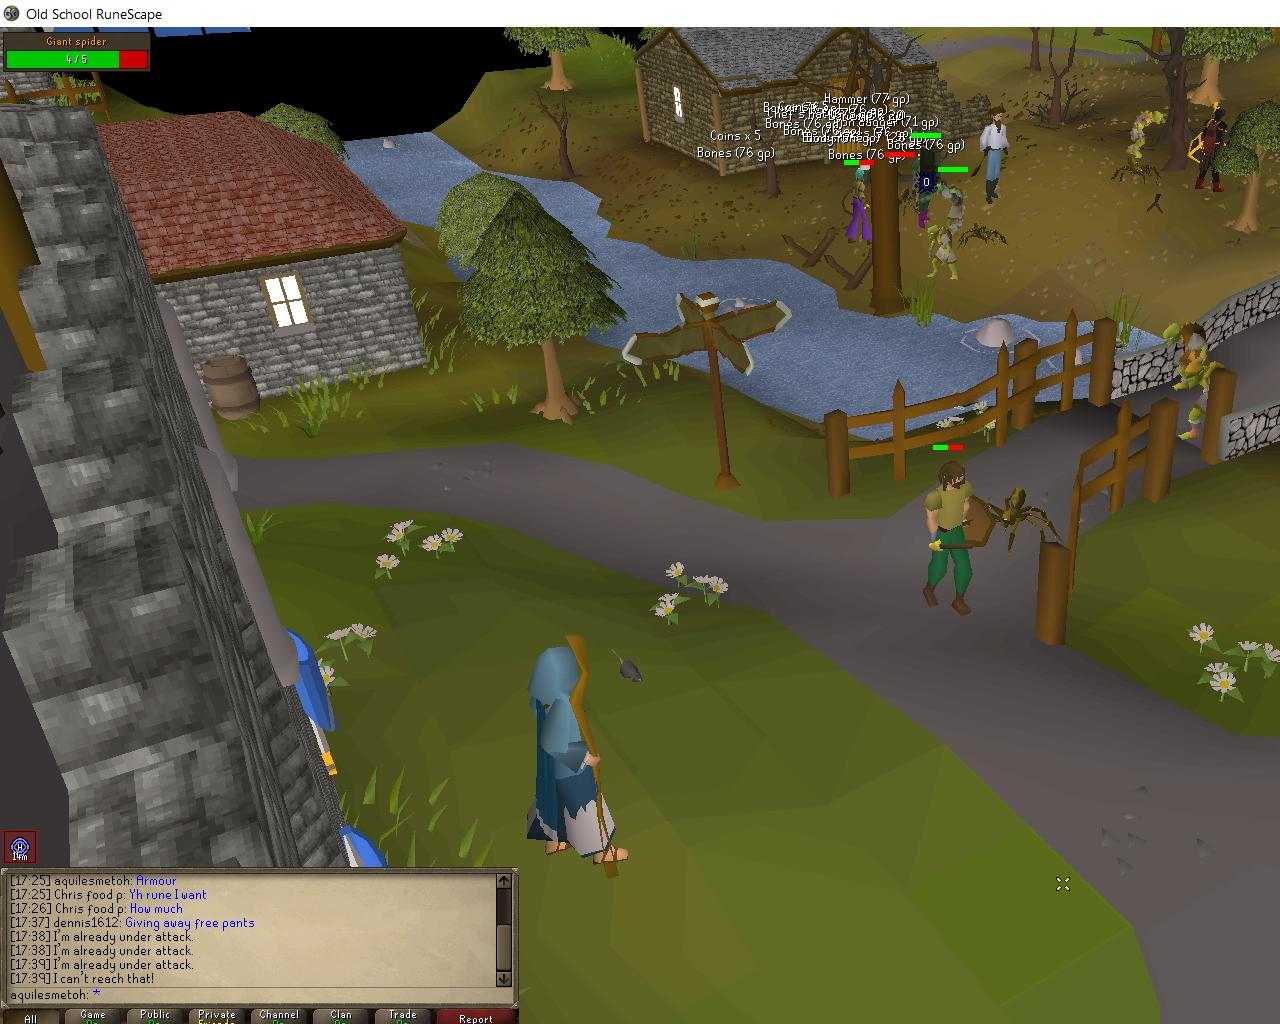Goblin: (1178, 360, 1234, 442), (1160, 321, 1211, 390), (924, 225, 958, 282), (1127, 110, 1166, 160), (934, 181, 968, 235)
